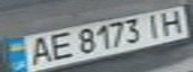1: (93, 21, 112, 51)
3: (121, 16, 148, 44)
7: (106, 19, 127, 47)
8: (75, 25, 96, 55)
A: (21, 34, 57, 68)
E: (42, 30, 75, 62)
H: (154, 7, 190, 35)
I: (139, 11, 169, 39)
